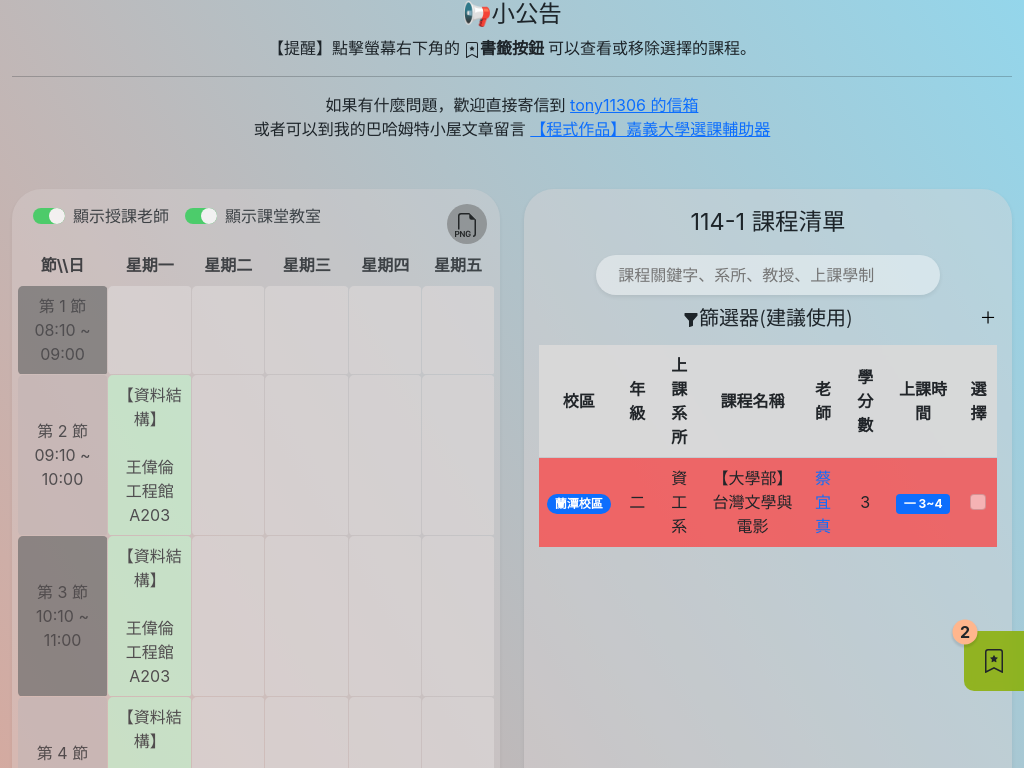
Test case: 右下角書籤按鈕顯示已選數量，點了開出清單
Expected: the text "2" is shown, [952, 620, 978, 645]
What coordinates should you click on to do the following:
click the button with class "edit-btn"
I would click on:
 (994, 661)
Its box is [964, 631, 1023, 691].
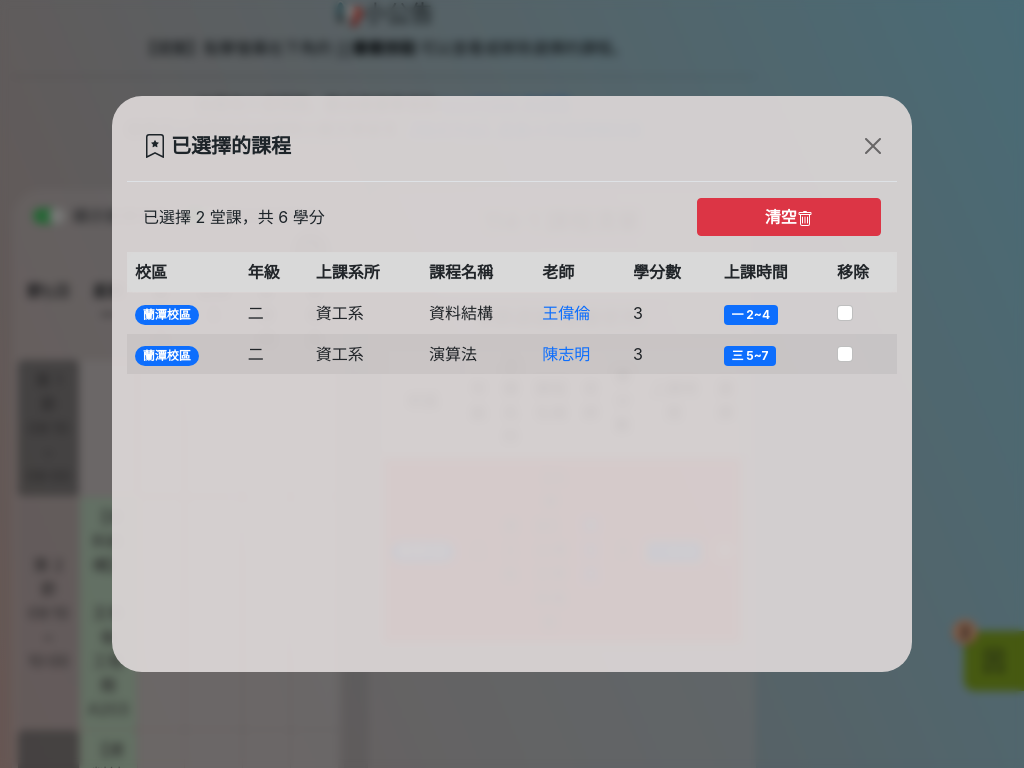
Now the text "已選擇 2 堂課，共 6 學分" is shown, box [143, 205, 325, 229]
